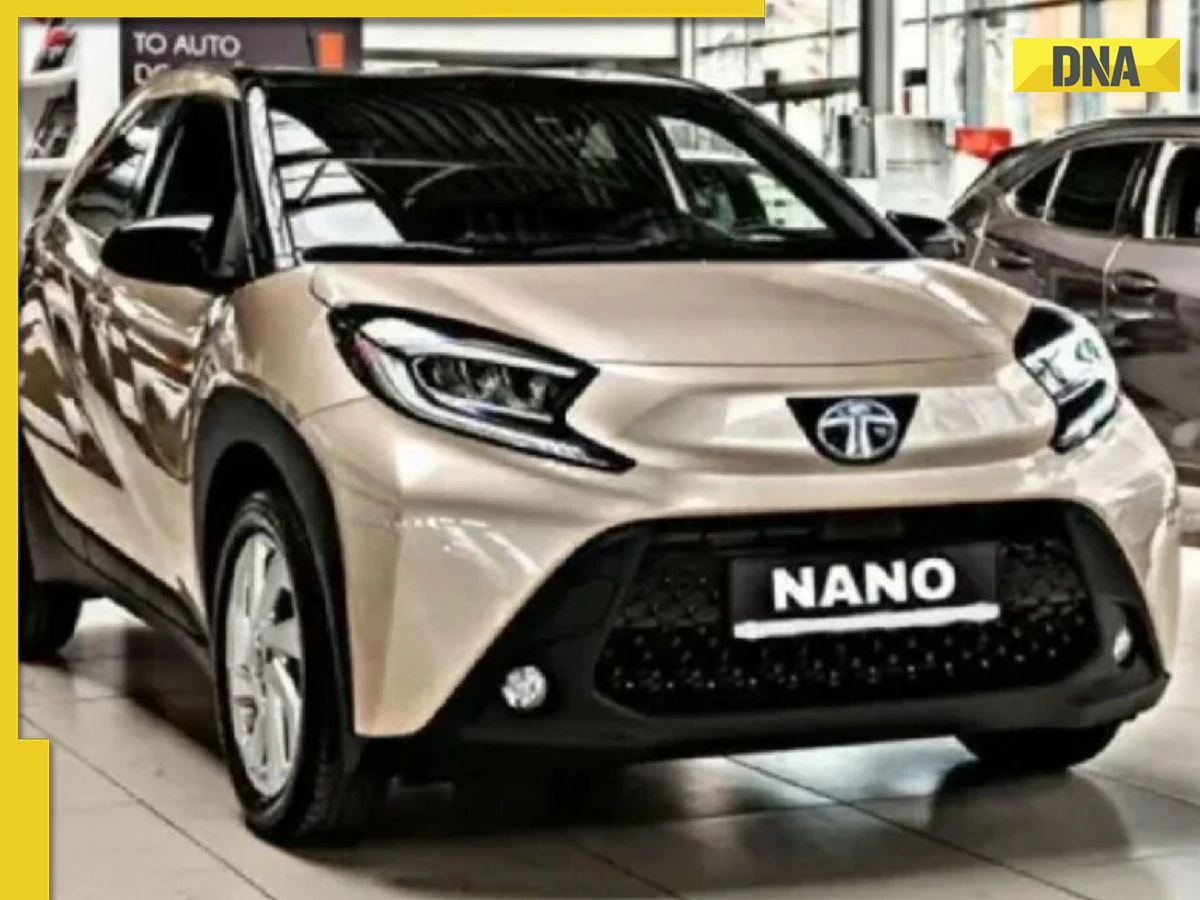Nano: (18, 59, 1180, 843)
